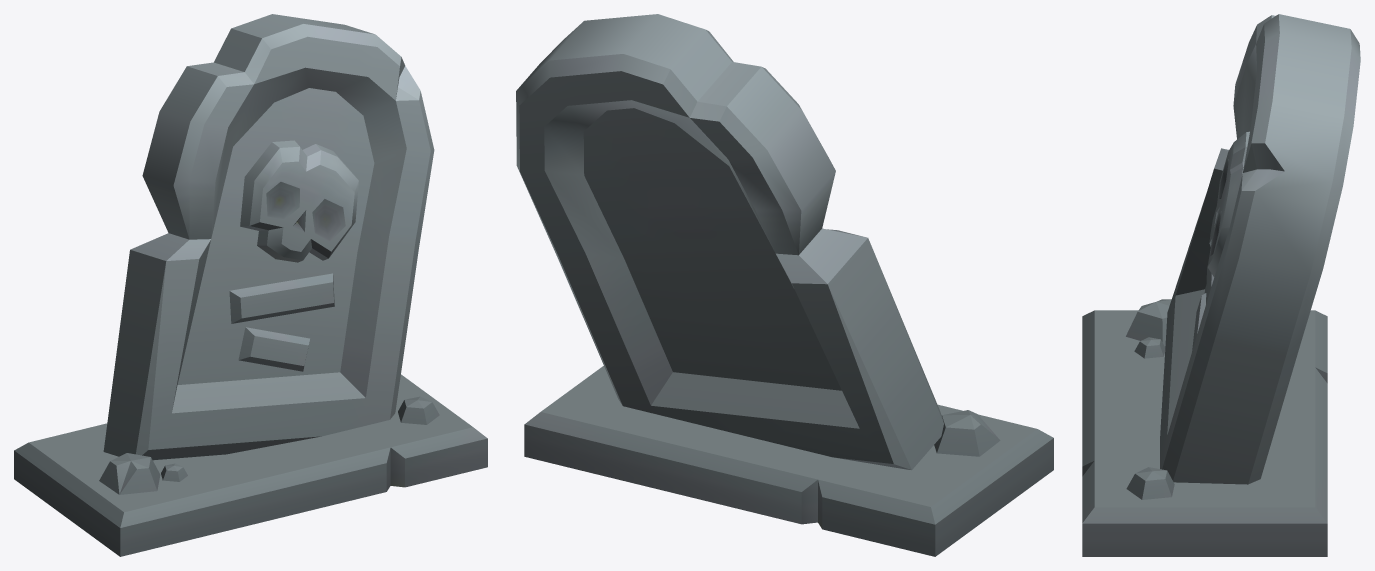
File: kay-cova-aberta.gltf
3 renders of one model, left to right at view 1: azimuth 30°, elevation 25°; view 2: azimuth 150°, elevation 25°; view 3: azimuth 270°, elevation 25°, orthographic. The views are drawn at different scales.
Visible parts, largest first — view 1: grave_A_destroyed; view 2: grave_A_destroyed; view 3: grave_A_destroyed.
Part boxes in pixels (x1,y1,x2,y2): grave_A_destroyed: (14,14,487,556); grave_A_destroyed: (516,14,1053,556); grave_A_destroyed: (1082,14,1360,556).
Bounding box in the file's own units: 1.04 × 1.05 × 0.5676.
1 material, 1 textured.
